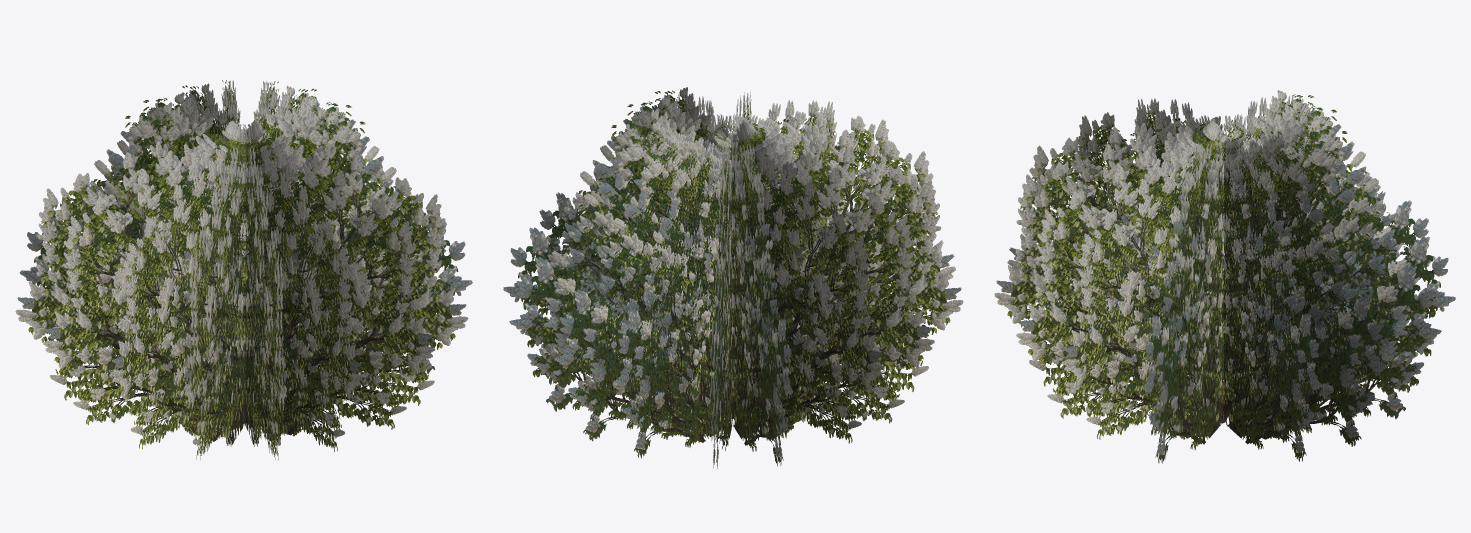
File: bush1.fbx
The picture shows the model from 3 angles, left to right: view 1: azimuth 30°, elevation 25°; view 2: azimuth 150°, elevation 25°; view 3: azimuth 270°, elevation 25°; orthographic projection.
Visible parts, largest first — view 1: bush1.001; view 2: bush1.001; view 3: bush1.001.
Boxes of the visible parts, left/top/right/bottom form: bush1.001: left=15, top=80, right=472, bottom=460; bush1.001: left=503, top=87, right=963, bottom=468; bush1.001: left=994, top=90, right=1455, bottom=463.
Bounding box in the file's own units: 12.93 × 9.51 × 12.93.
Materials: 1 (1 with a texture image).
